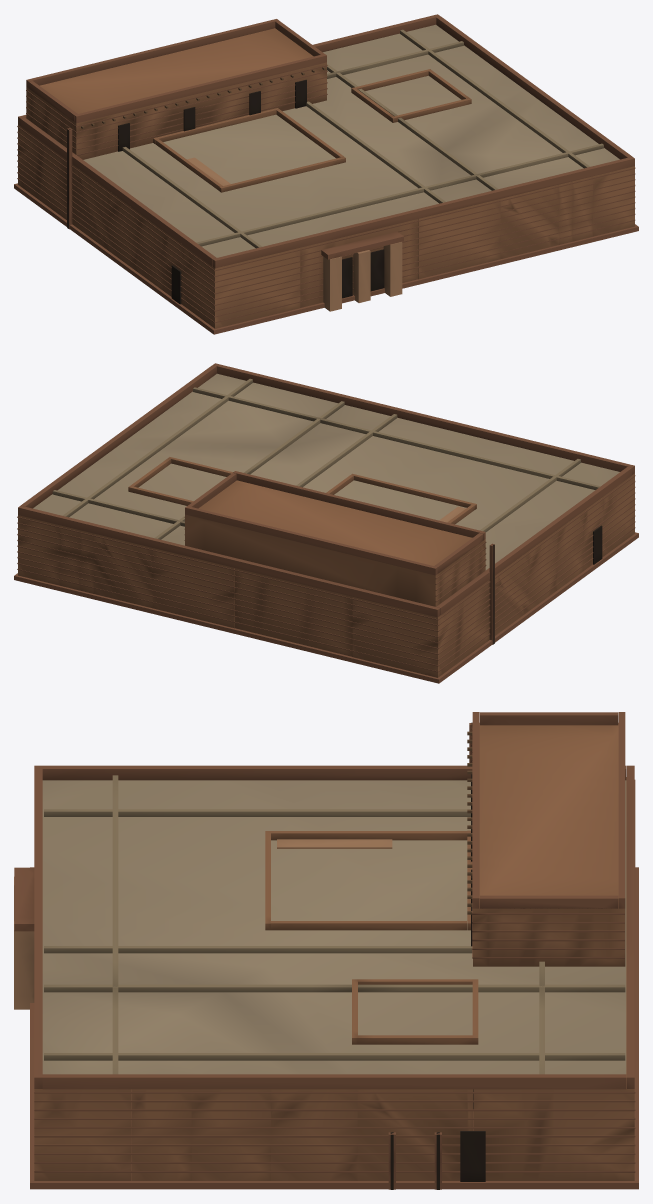
The model's file is hr-house.glb.
The picture shows the model from 3 angles, top to bottom: view 1: azimuth 30°, elevation 25°; view 2: azimuth 150°, elevation 25°; view 3: azimuth 270°, elevation 25°; orthographic projection. The views are drawn at different scales.
Visible parts, largest first — view 1: p2_roofs and upper storey, p0_walls and courts, p1_entrance, stair and drains; view 2: p2_roofs and upper storey, p0_walls and courts, p1_entrance, stair and drains; view 3: p2_roofs and upper storey, p0_walls and courts, p1_entrance, stair and drains.
Boxes of the visible parts, x1,y1,x2,y2 form: p2_roofs and upper storey: (18,14,634,268); p0_walls and courts: (14,69,638,334); p1_entrance, stair and drains: (67,128,403,311); p2_roofs and upper storey: (18,363,634,617); p0_walls and courts: (14,457,638,683); p1_entrance, stair and drains: (439,506,602,644); p2_roofs and upper storey: (34,712,634,1089); p0_walls and courts: (30,777,638,1189); p1_entrance, stair and drains: (14,722,485,1189).
Bounding box in the file's own units: 32.48 × 8.01 × 27.1.
